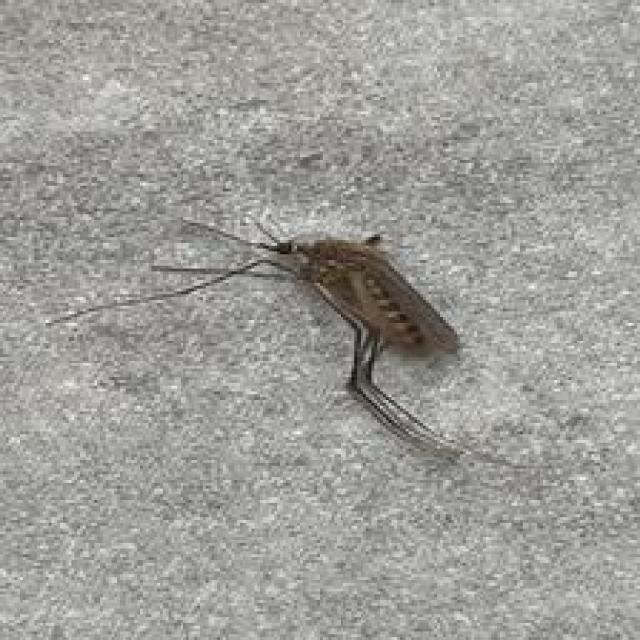Culex: (46, 207, 468, 464)
